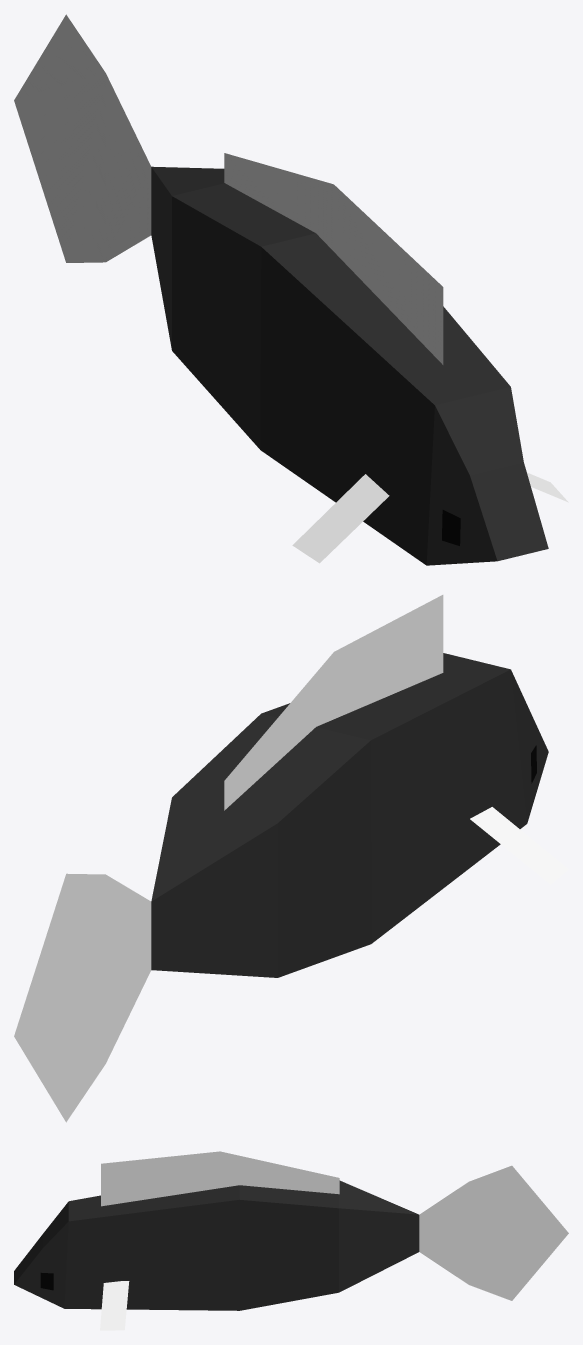
Rendered from 04basicfish.fbx.
The picture shows the model from 3 angles, top to bottom: view 1: azimuth 30°, elevation 25°; view 2: azimuth 150°, elevation 25°; view 3: azimuth 270°, elevation 25°; orthographic projection. The views are drawn at different scales.
Parts seen in each view (by area): view 1: Tropical Fish 04; view 2: Tropical Fish 04; view 3: Tropical Fish 04.
Part boxes in pixels (x1,y1,x2,y2): Tropical Fish 04: [14, 14, 568, 565]; Tropical Fish 04: [14, 595, 568, 1122]; Tropical Fish 04: [14, 1151, 568, 1330].
Bounding box in the file's own units: 81.74 × 83.01 × 279.
